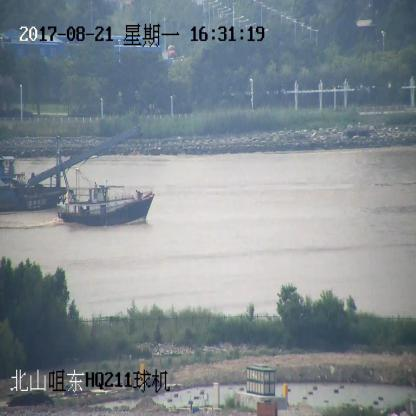Fishing Boat: (58, 171, 154, 227)
